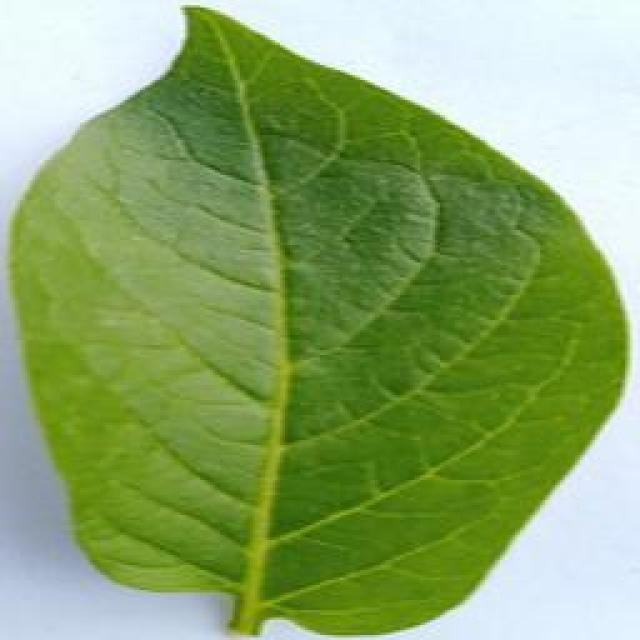Potato_Healthy: (0, 6, 627, 632)
